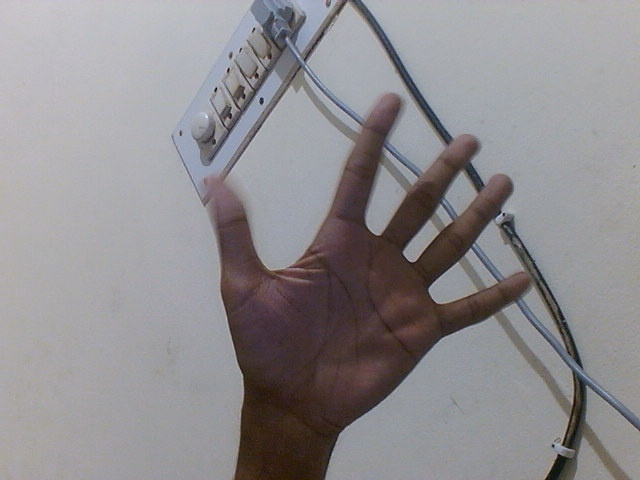hand: (203, 86, 537, 435)
